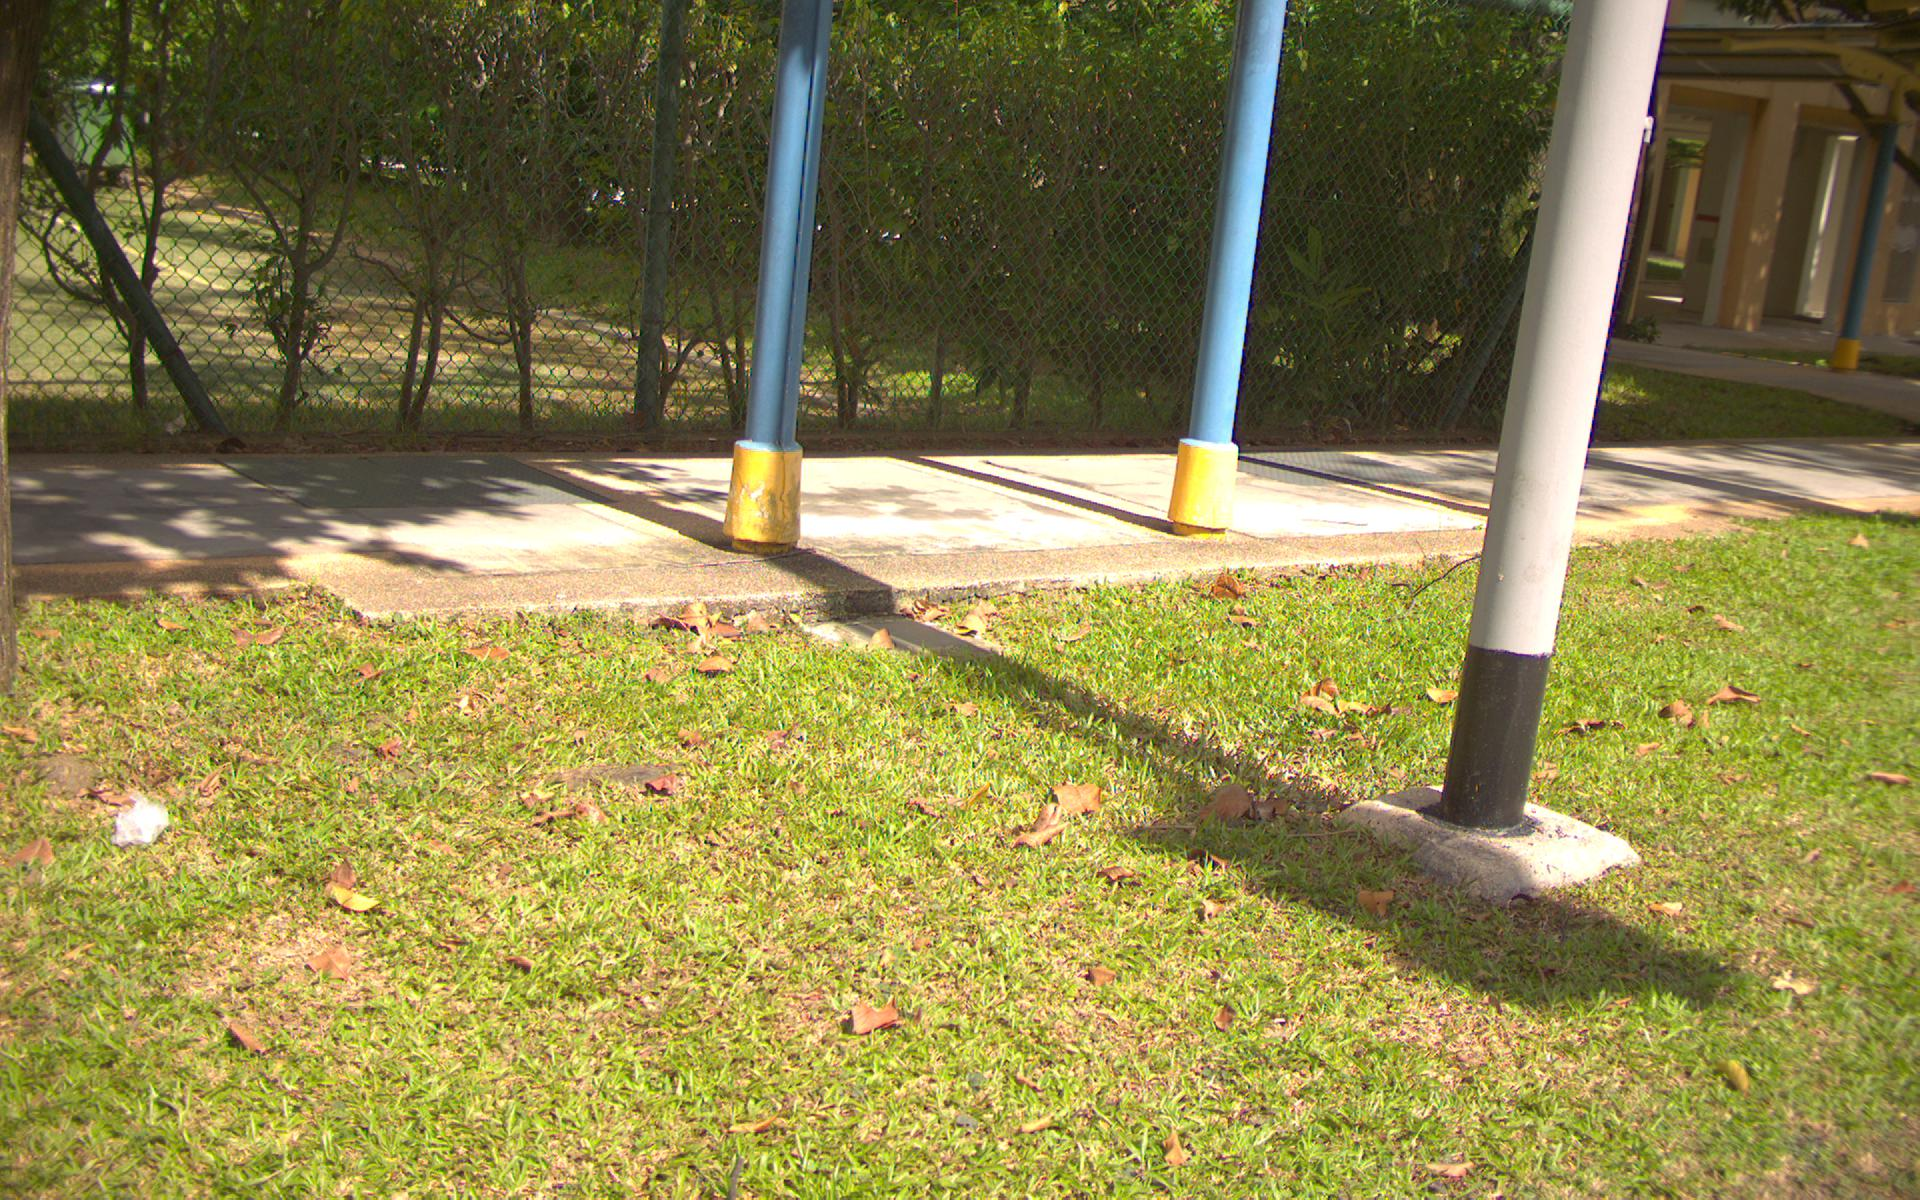pathway_low: (15, 460, 1561, 527)
road_turf_low: (35, 646, 1920, 1200)
